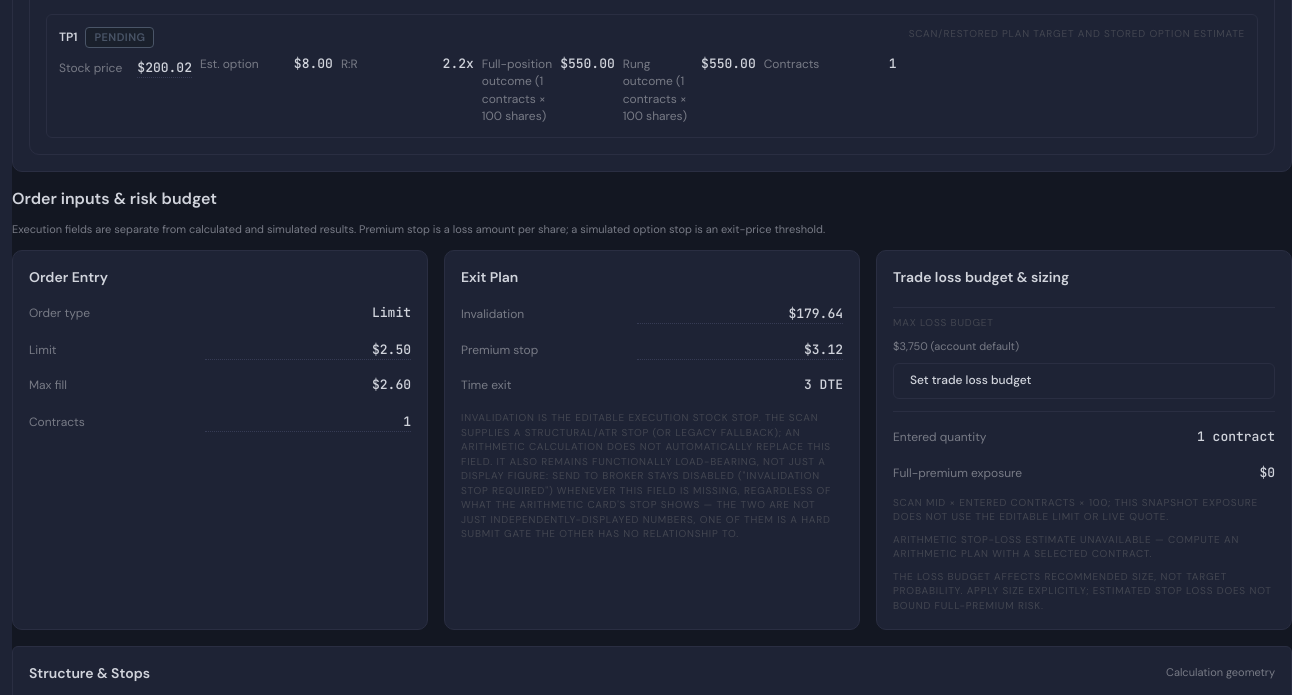
Scenario: P2-23 -- with no live and no contract mid, the bounds anchor on the entry limit › entry.limit 2.50 -> typing 25 into Limit is refused
This screenshot has width=1292, height=695.
(page scrolled)
Step 1. Click the button named "Edit Limit" → click(308, 349), box [205, 338, 411, 360]
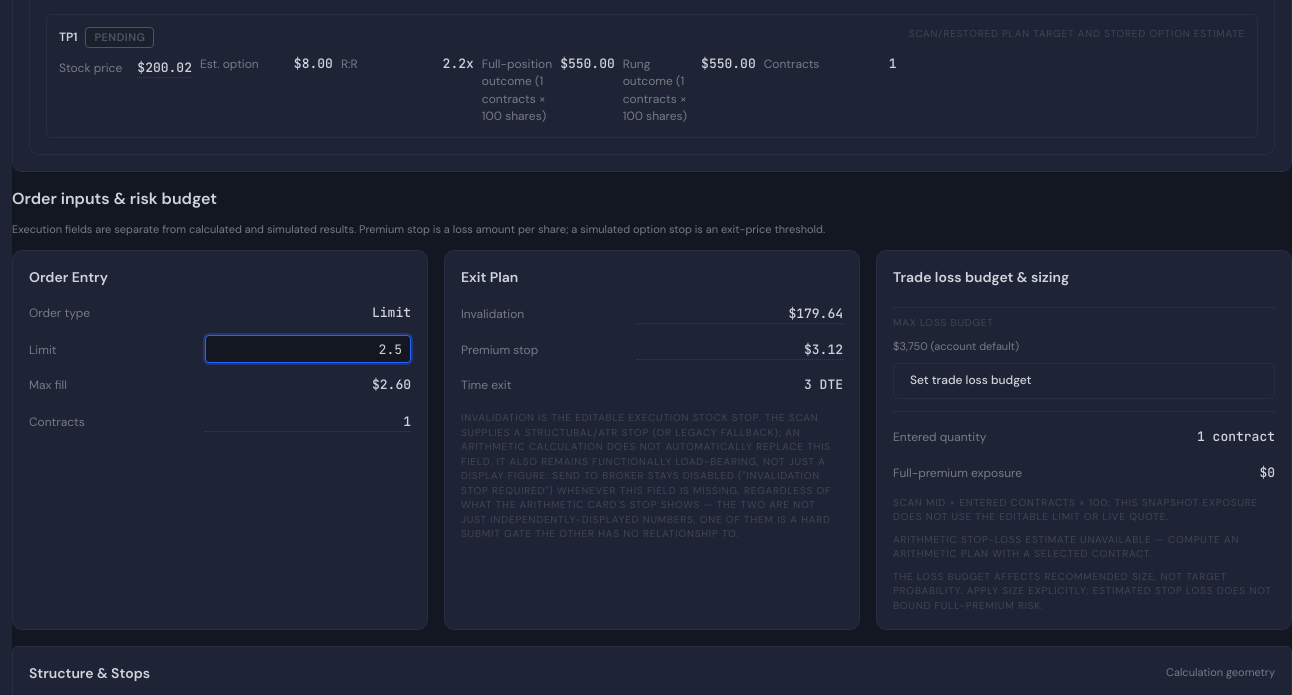
Step 2. Replace the text in the field named "Edit Limit" with "25" → (308, 349), box [205, 335, 411, 363]
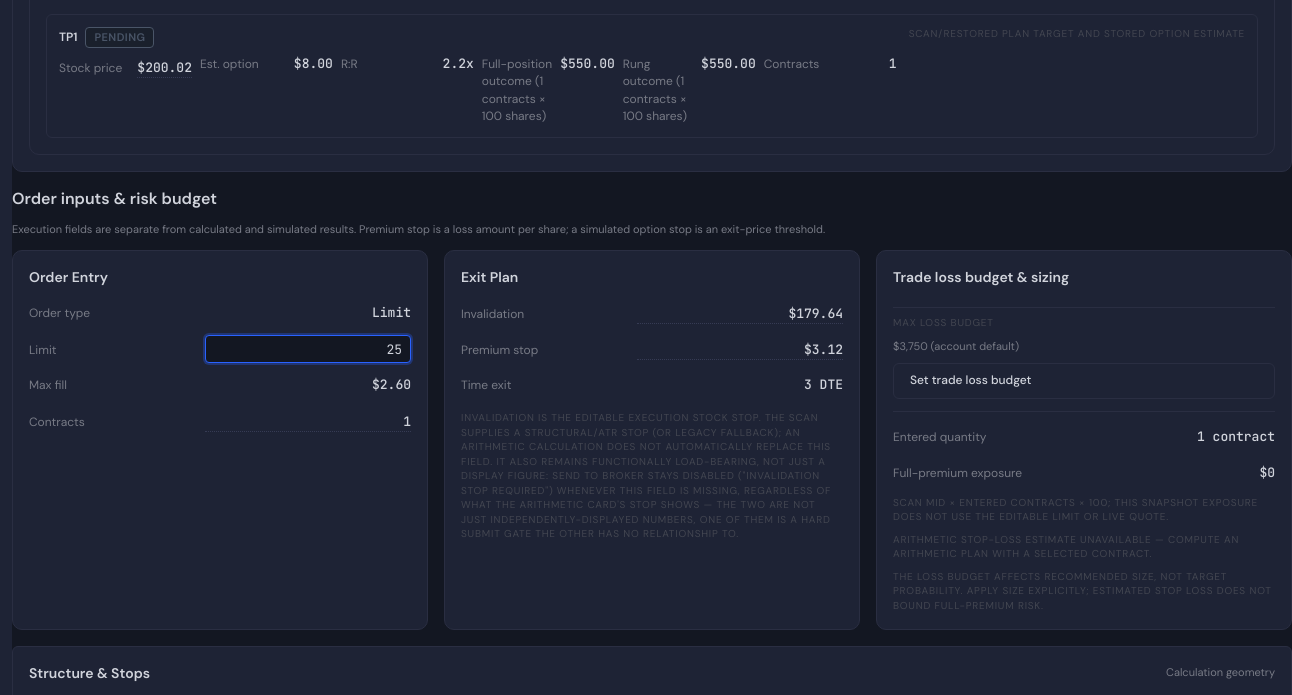
Step 3. Leave the field named "Edit Limit", box [205, 335, 411, 363]
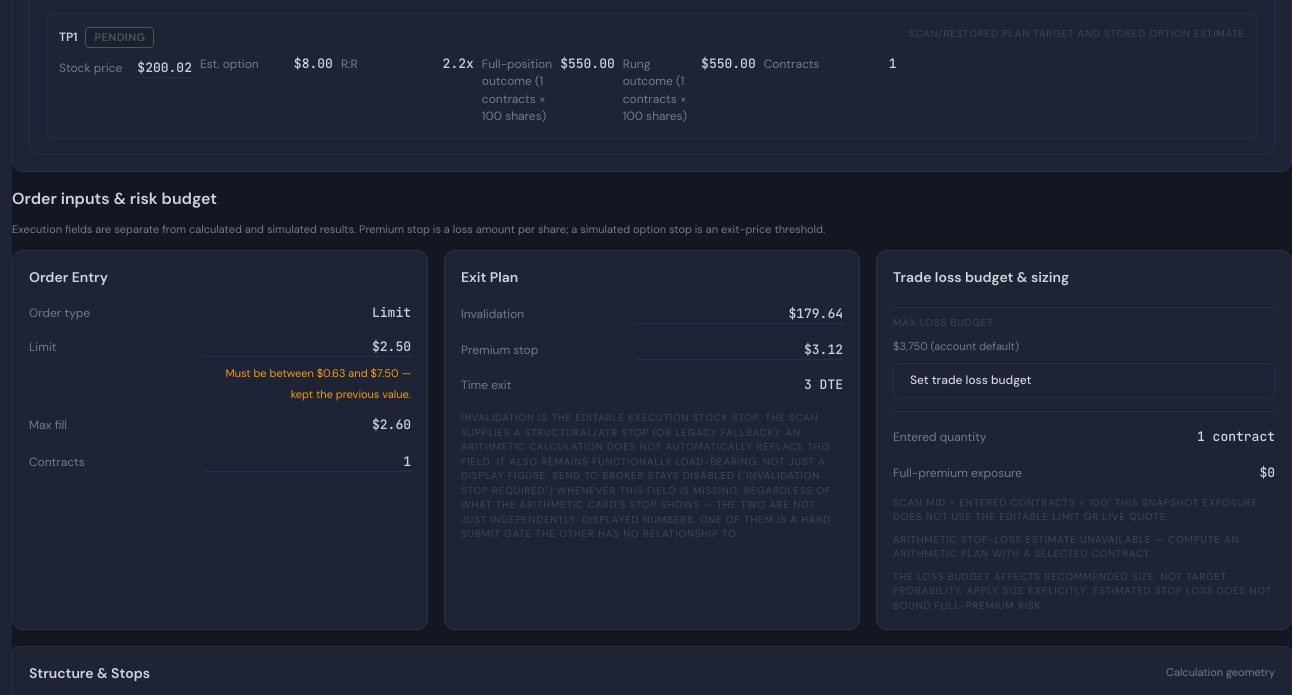
Expected: the text "Must be between $0.63 and $7.50 — kept the previous value." is shown, [225, 366, 411, 401]
